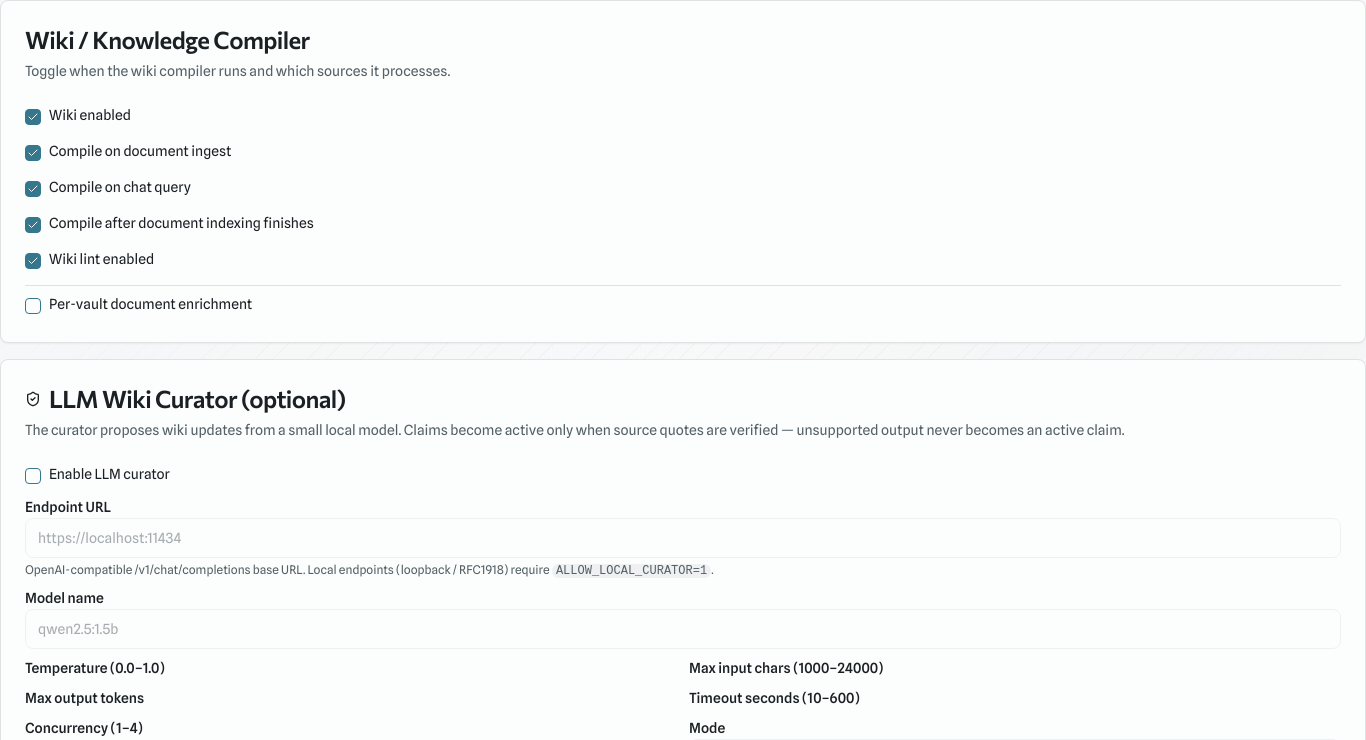
WikiCuratorSettings issue #774 read outcomes › does not expose Retry or start another read while a toggle is pending
Click the checkbox named "Per-vault document enrichment" next to "Per-vault document enrichment". click: (33, 306)
box: x1=25 y1=298 x2=41 y2=314
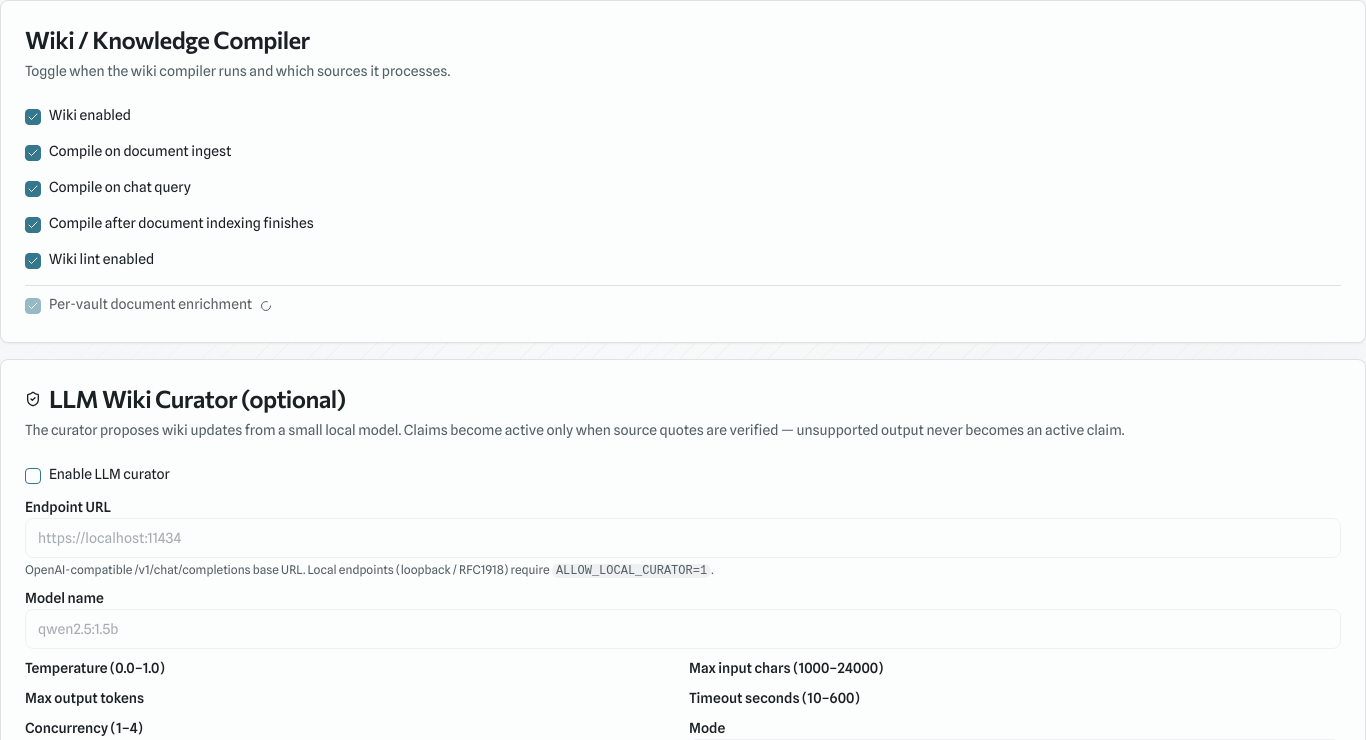
Check: the checkbox named "Per-vault document enrichment" next to "Per-vault document enrichment" is checked, box x1=25 y1=298 x2=41 y2=314
Check: the checkbox named "Per-vault document enrichment" next to "Per-vault document enrichment" is disabled, box x1=25 y1=298 x2=41 y2=314
